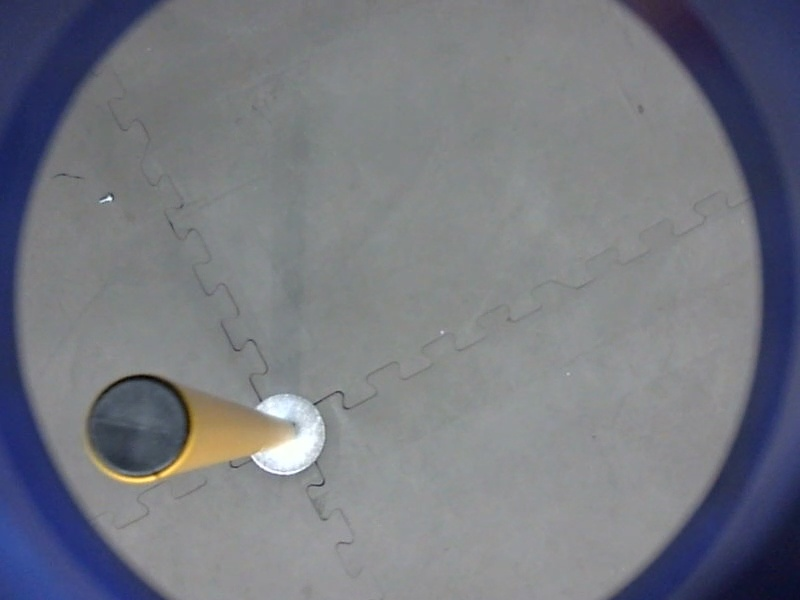tip: (77, 368, 198, 492)
